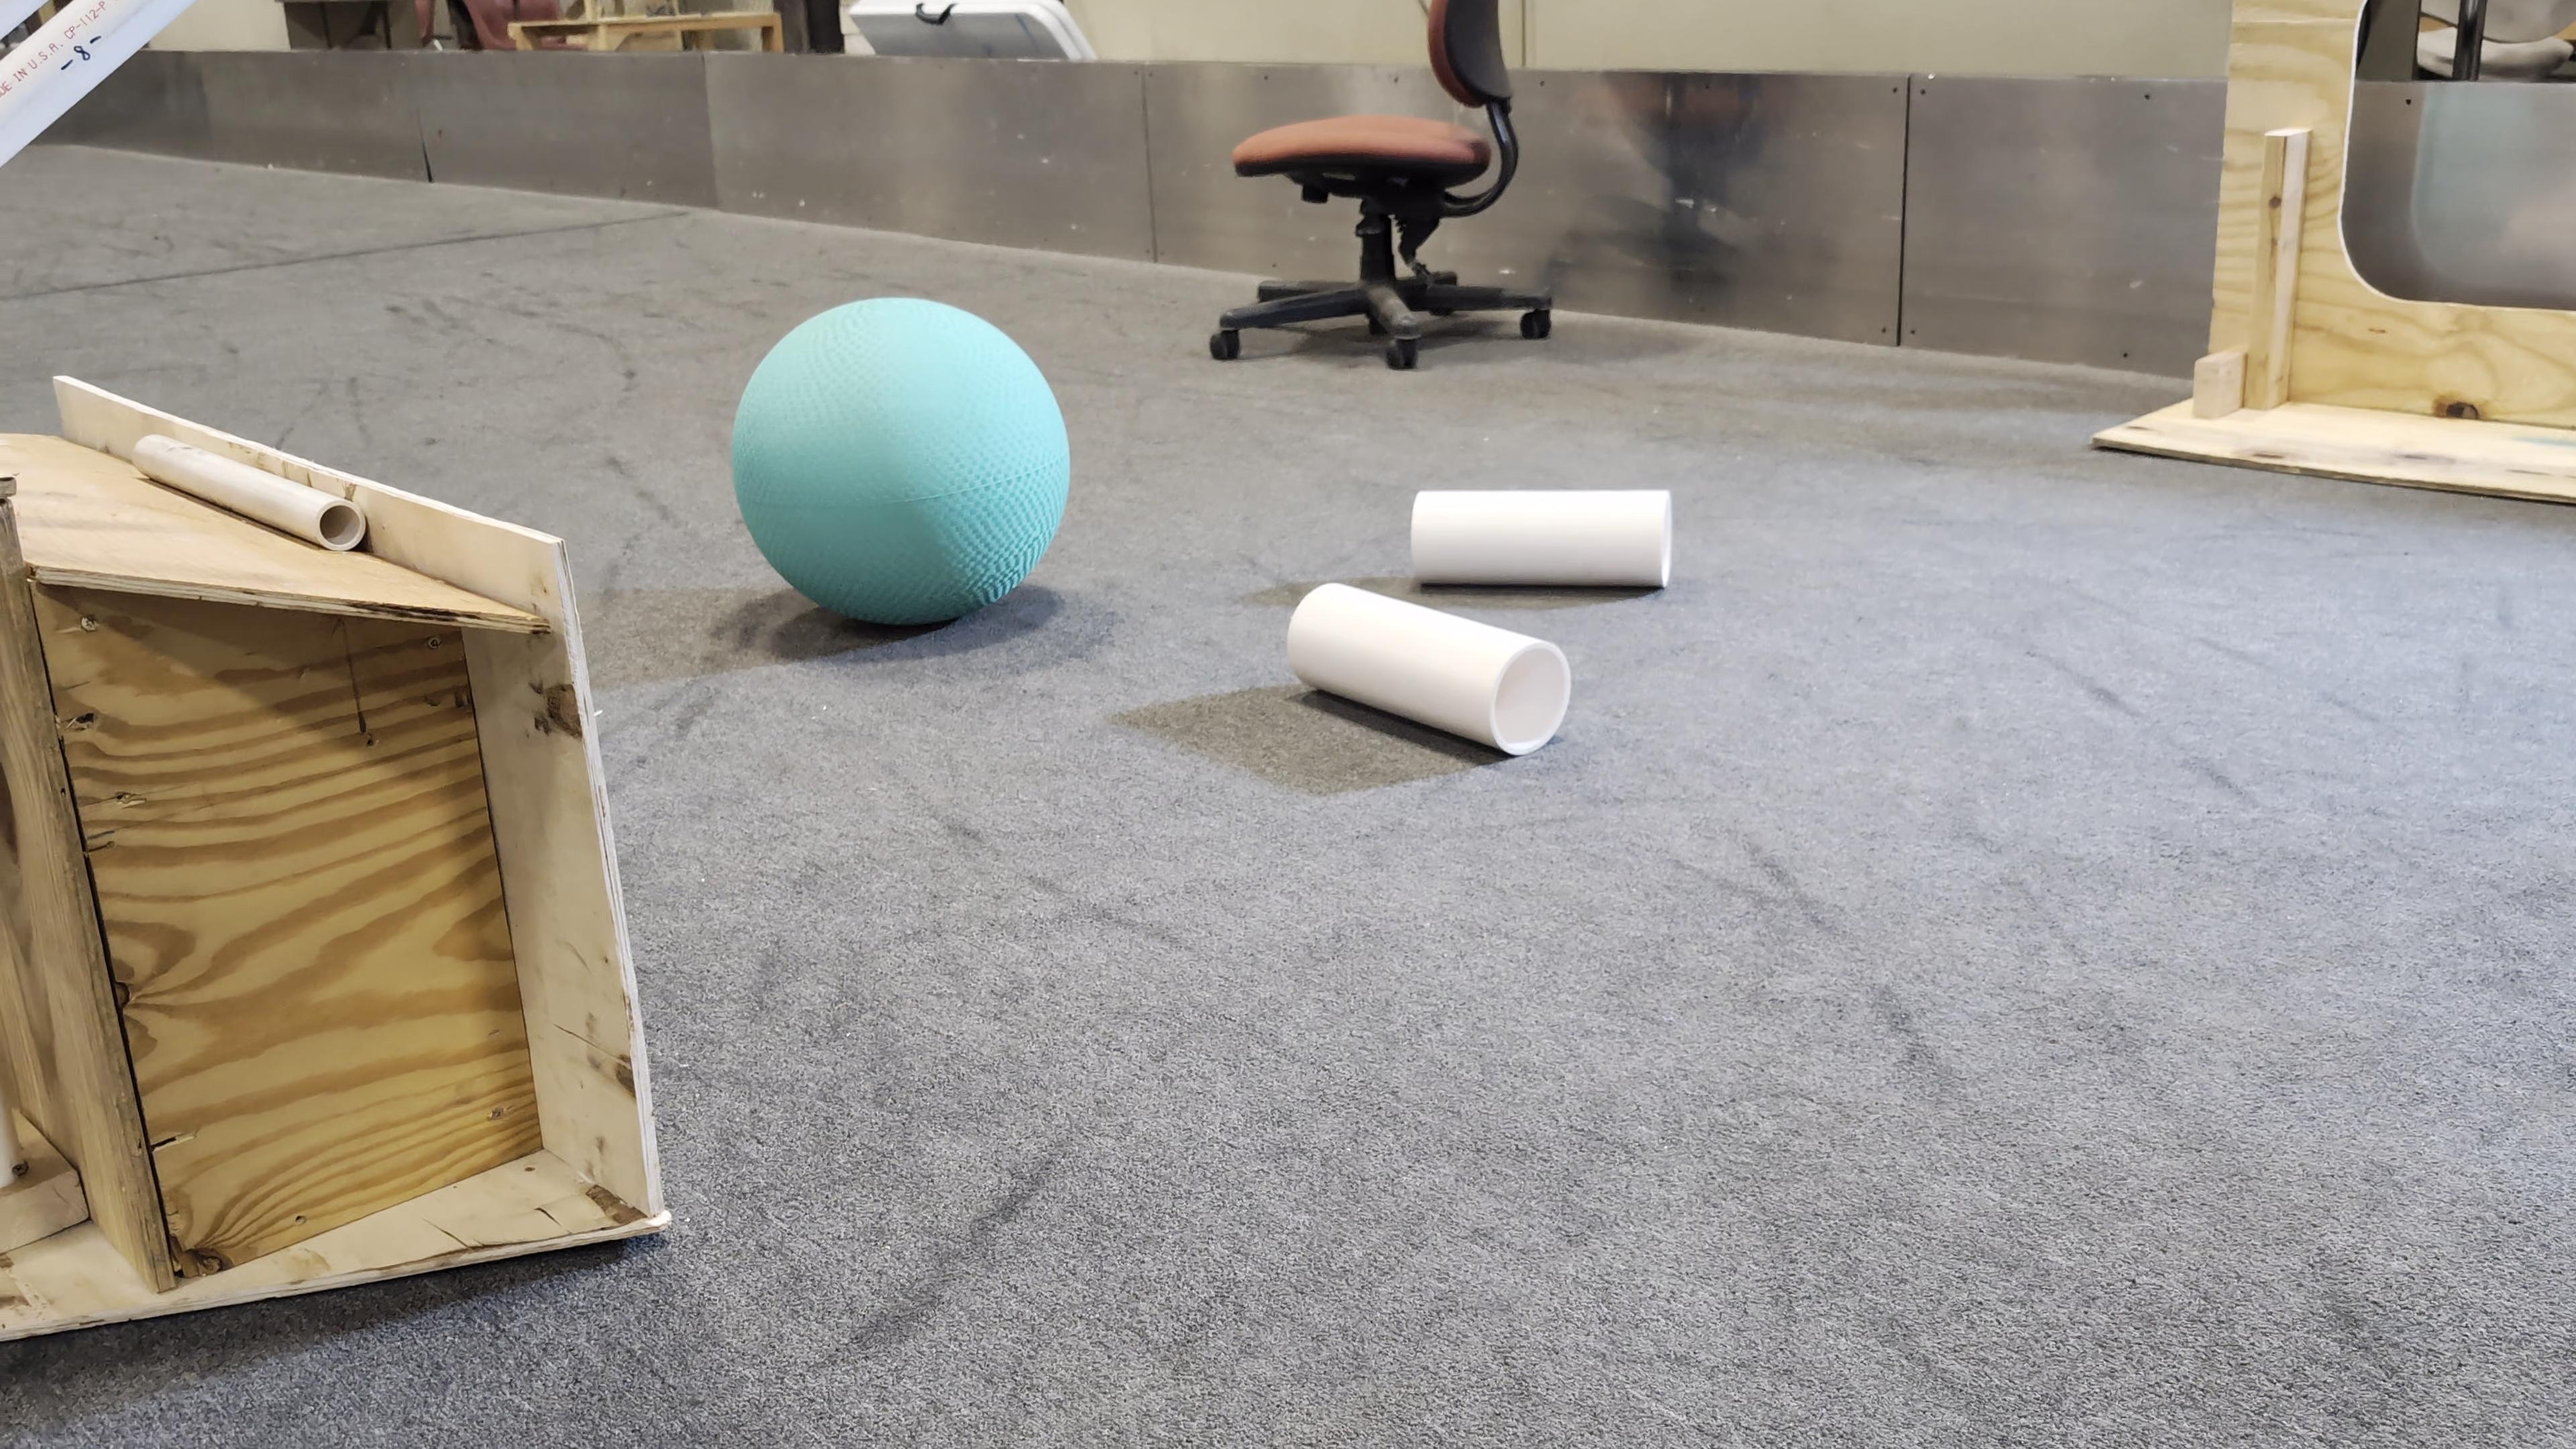algae: (732, 292, 1070, 626)
coral: (1284, 579, 1569, 752), (1408, 483, 1677, 589)
